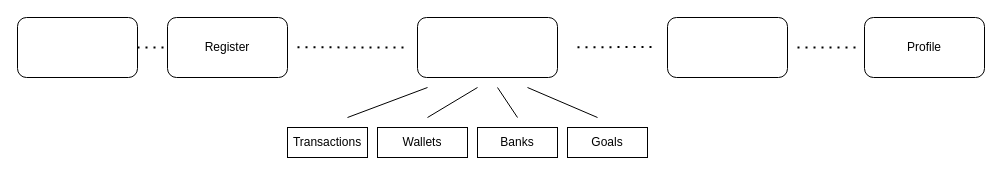
Some shapes in this 1002 by 175 pixel diagram are drawn without their labels. Here are the shapes that lost their labels. From the top down, the centre of each, then its label:
At (x=77, y=47): "Login".
At (x=487, y=47): "Dashboard".
At (x=727, y=47): "Budgets".
